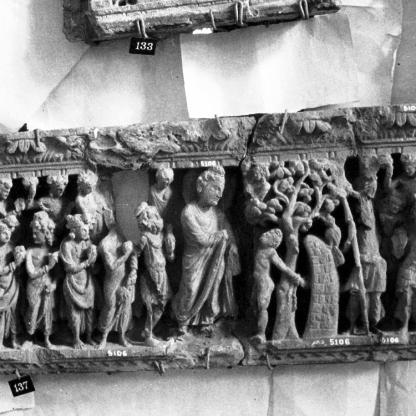buddha-standing: (182, 164, 241, 332)
